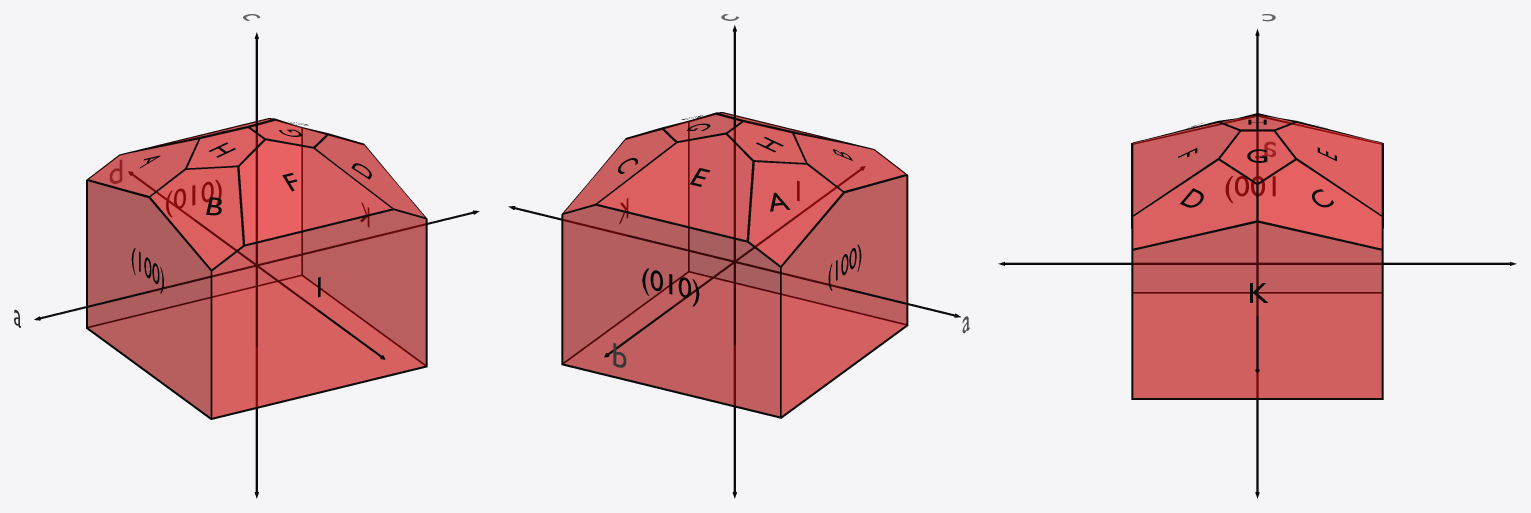
The model's file is miller_indices_problem_2.glb.
3 renders of one model, left to right at view 1: azimuth 30°, elevation 25°; view 2: azimuth 150°, elevation 25°; view 3: azimuth 270°, elevation 25°, orthographic.
Visible parts, largest first — view 1: Cube_0, Cube.001_14, Cylinder.002_15; view 2: Cube_0, Cube.001_14, Cylinder.002_15, Text.014_19; view 3: Cube_0, Cube.001_14, Cylinder.002_15.
Part boxes in pixels (left/top/right/bottom): Cube_0: left=88, top=118, right=425, bottom=417; Cube.001_14: left=86, top=118, right=427, bottom=419; Cylinder.002_15: left=34, top=32, right=479, bottom=498; Cube_0: left=563, top=113, right=906, bottom=416; Cube.001_14: left=561, top=112, right=908, bottom=418; Cylinder.002_15: left=508, top=25, right=960, bottom=498; Text.014_19: left=642, top=268, right=699, bottom=306; Cube_0: left=1133, top=115, right=1381, bottom=397; Cube.001_14: left=1131, top=113, right=1383, bottom=399; Cylinder.002_15: left=998, top=29, right=1516, bottom=498.
Bounding box in the file's own units: 4.07 × 4.07 × 3.98.
